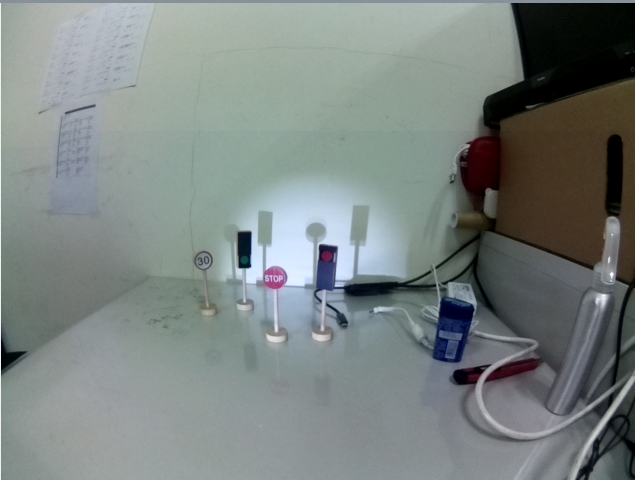Green: (234, 229, 254, 272)
Red: (315, 240, 340, 299)
Speed30: (193, 248, 217, 276)
Stop: (262, 264, 287, 295)
